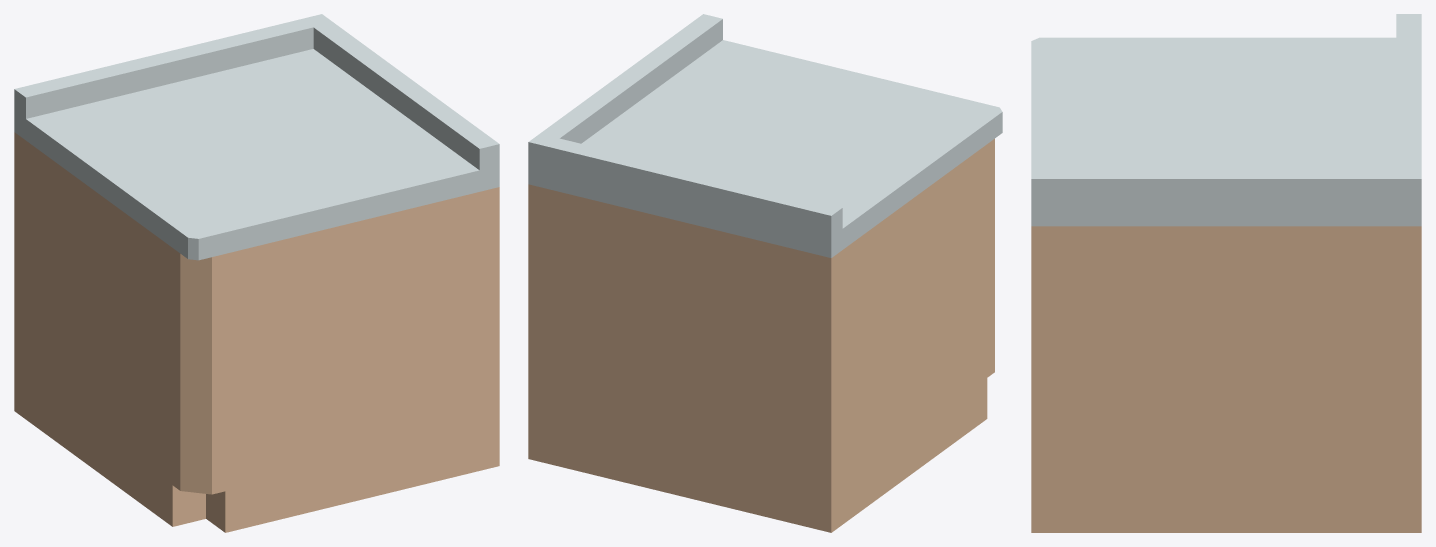
Rendered from kn-kitchen-cabinet-corner-inner.glb.
3 renders of one model, left to right at view 1: azimuth 30°, elevation 25°; view 2: azimuth 150°, elevation 25°; view 3: azimuth 270°, elevation 25°, orthographic. The views are drawn at different scales.
Parts seen in each view (by area): view 1: kitchenCabinetCornerInner(Clone); view 2: kitchenCabinetCornerInner(Clone); view 3: kitchenCabinetCornerInner(Clone).
Part boxes in pixels (x1,y1,x2,y2): kitchenCabinetCornerInner(Clone): (14, 14, 499, 532); kitchenCabinetCornerInner(Clone): (528, 14, 1002, 532); kitchenCabinetCornerInner(Clone): (1031, 14, 1421, 532).
Size of the model in its own units: 1 by 1 by 1.
